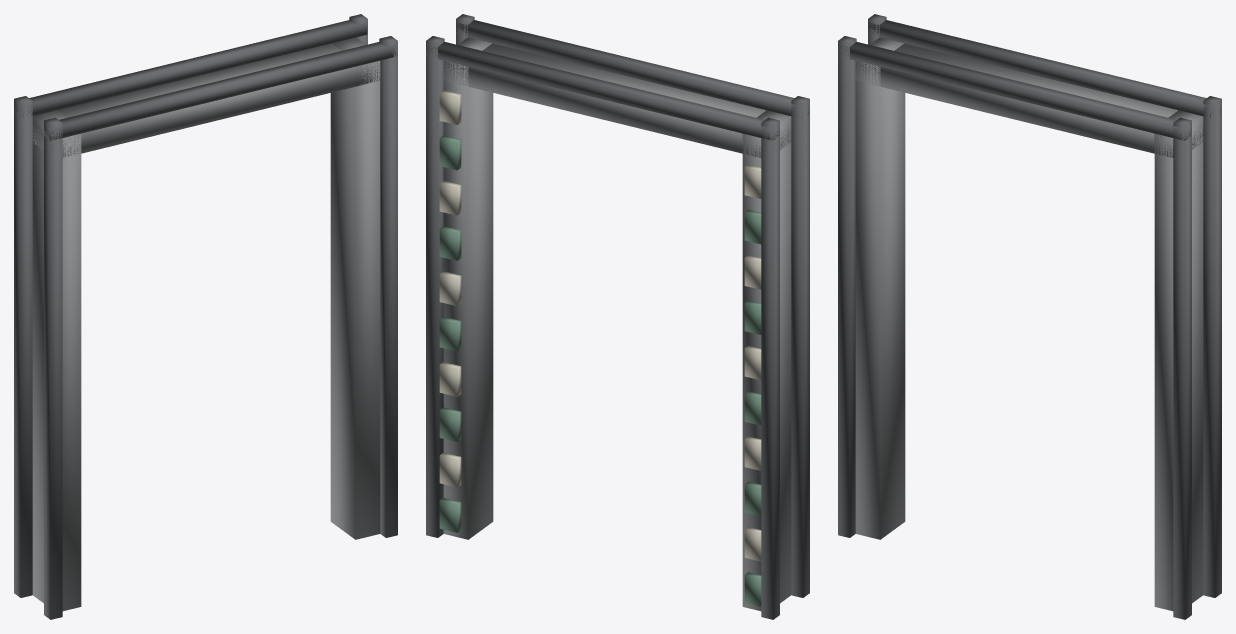
Rendered from doorway_tile_return_w152_h240_d24.glb.
3 renders of one model, left to right at view 1: azimuth 30°, elevation 25°; view 2: azimuth 150°, elevation 25°; view 3: azimuth 330°, elevation 25°, orthographic.
Visible parts, largest first — view 1: world; view 2: world; view 3: world.
Boxes of the visible parts, x1=… form: world: x1=14, y1=14, x2=397, y2=619; world: x1=426, y1=14, x2=809, y2=619; world: x1=838, y1=14, x2=1221, y2=619.
Size of the model in its own units: 1.92 by 2.62 by 0.3516.
